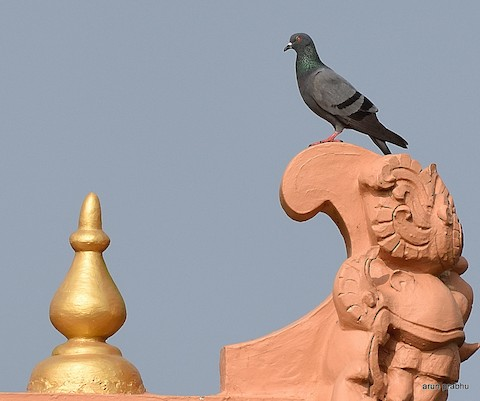pigeon: (281, 23, 412, 160)
